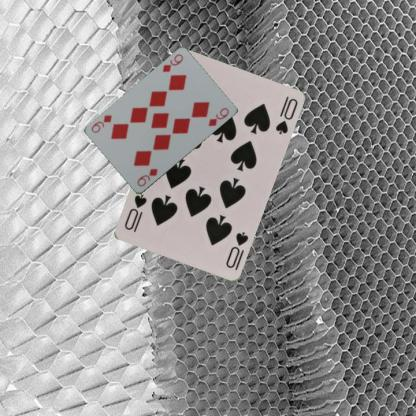10s: (223, 229, 250, 269)
9d: (160, 51, 184, 74), (134, 166, 159, 188)
